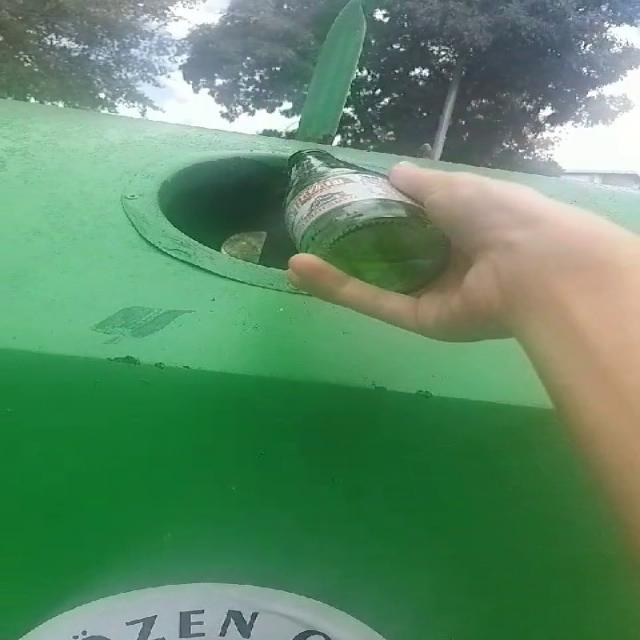glass: (284, 149, 449, 292)
